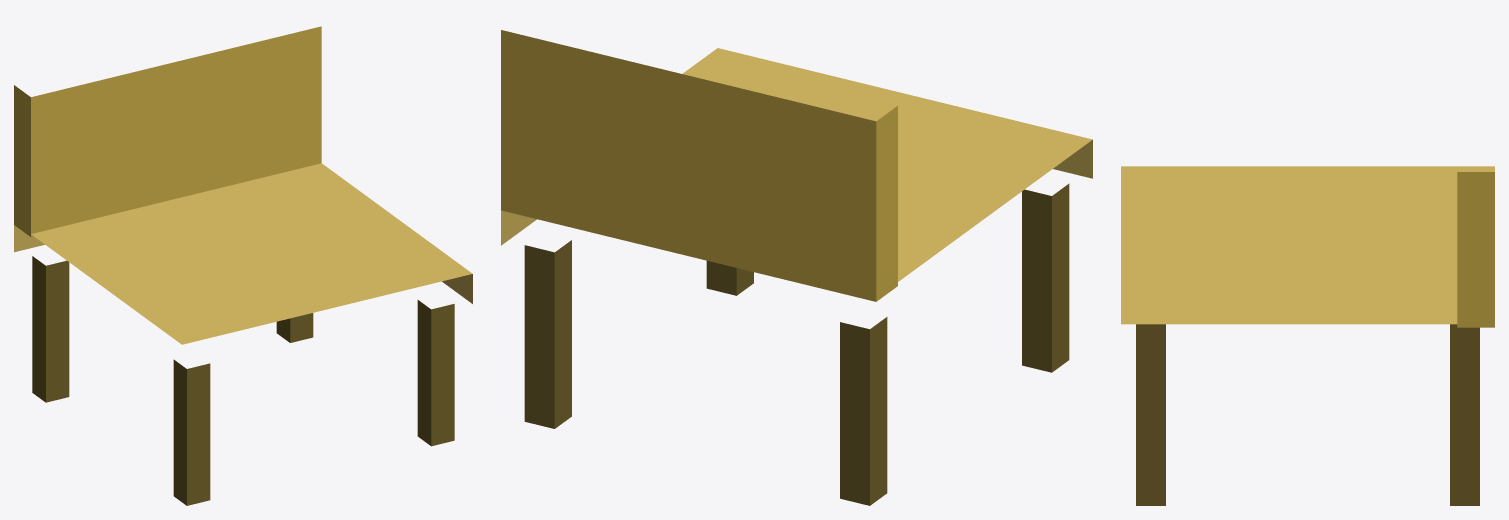
Rendered from Chair-yellow.glb.
The picture shows the model from 3 angles, left to right: view 1: azimuth 30°, elevation 25°; view 2: azimuth 150°, elevation 25°; view 3: azimuth 270°, elevation 25°; orthographic projection. The views are drawn at different scales.
Parts seen in each view (by area): view 1: Chair; view 2: Chair; view 3: Chair.
Part boxes in pixels (x1,y1,x2,y2): Chair: (14, 26, 472, 505); Chair: (501, 30, 1092, 505); Chair: (1121, 166, 1494, 505).
Size of the model in its own units: 1 by 1 by 1.
